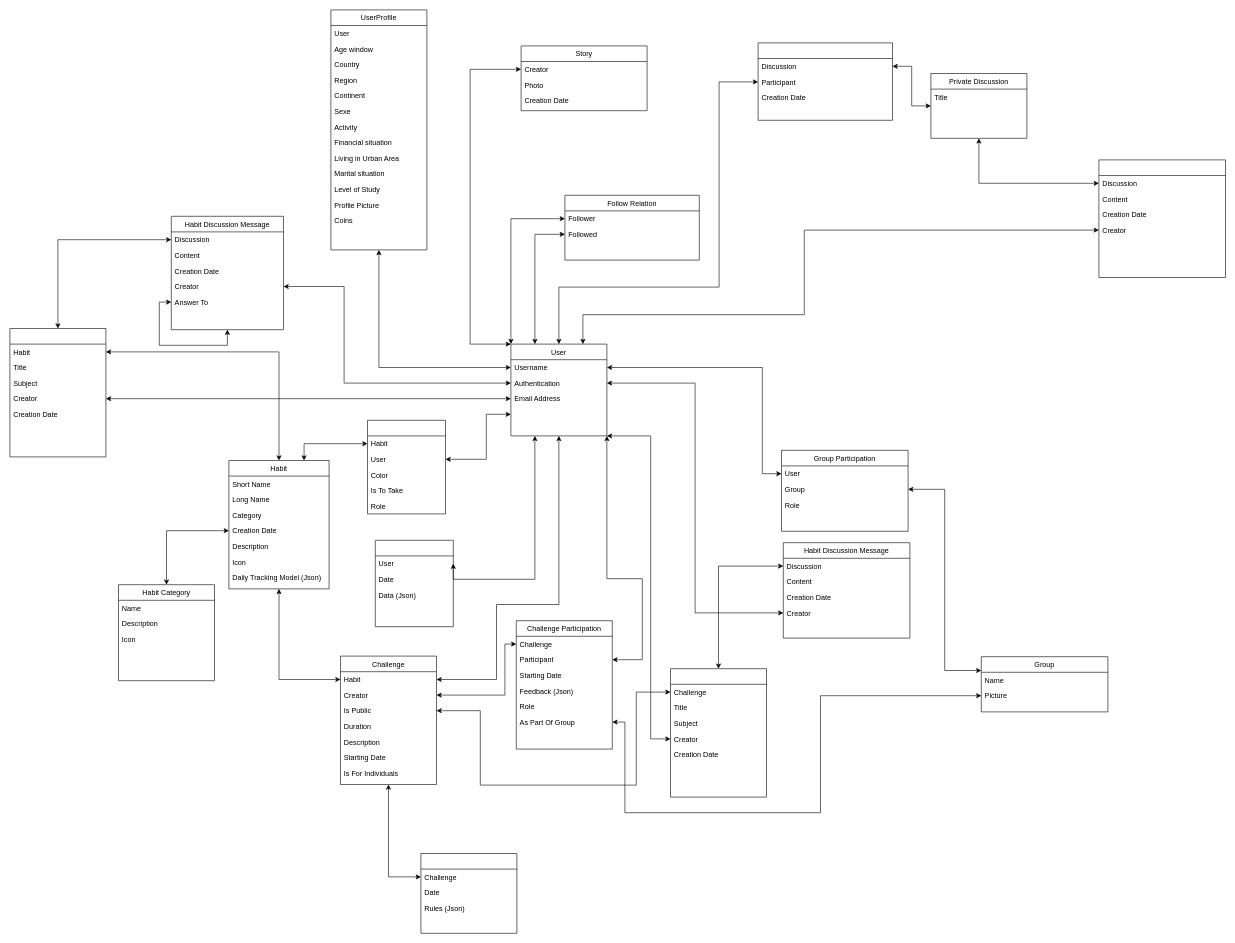
Some shapes in this 1235 by 943 pixel diagram are drawn without their labels. The box of each missing label's shape, as (x1, y1, x2, y2) in pixels:
Challenge Discussion: (670, 668, 766, 797)
Daily Challenge Rule: (420, 853, 517, 933)
Daily Tracking: (375, 540, 453, 627)
Habit Discussion: (9, 328, 106, 457)
Habit Participation: (367, 420, 446, 514)
Private Discussion Participation: (758, 42, 892, 120)
Private Message: (1098, 159, 1226, 278)
